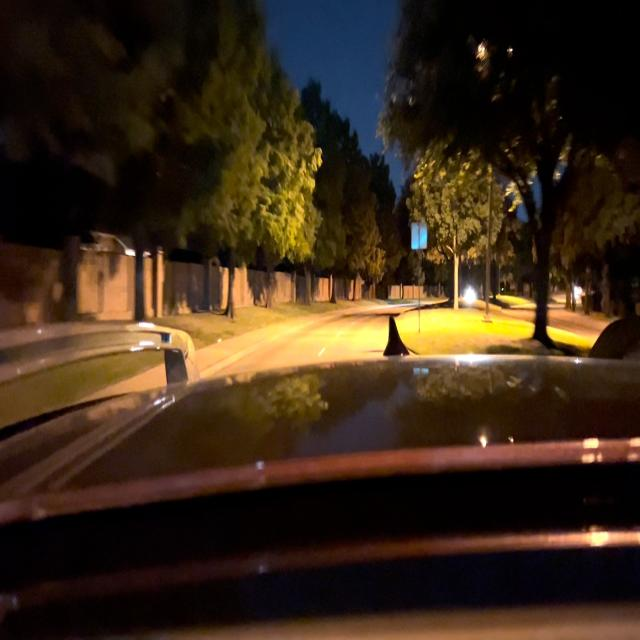back-of-sign: (413, 219, 427, 250)
